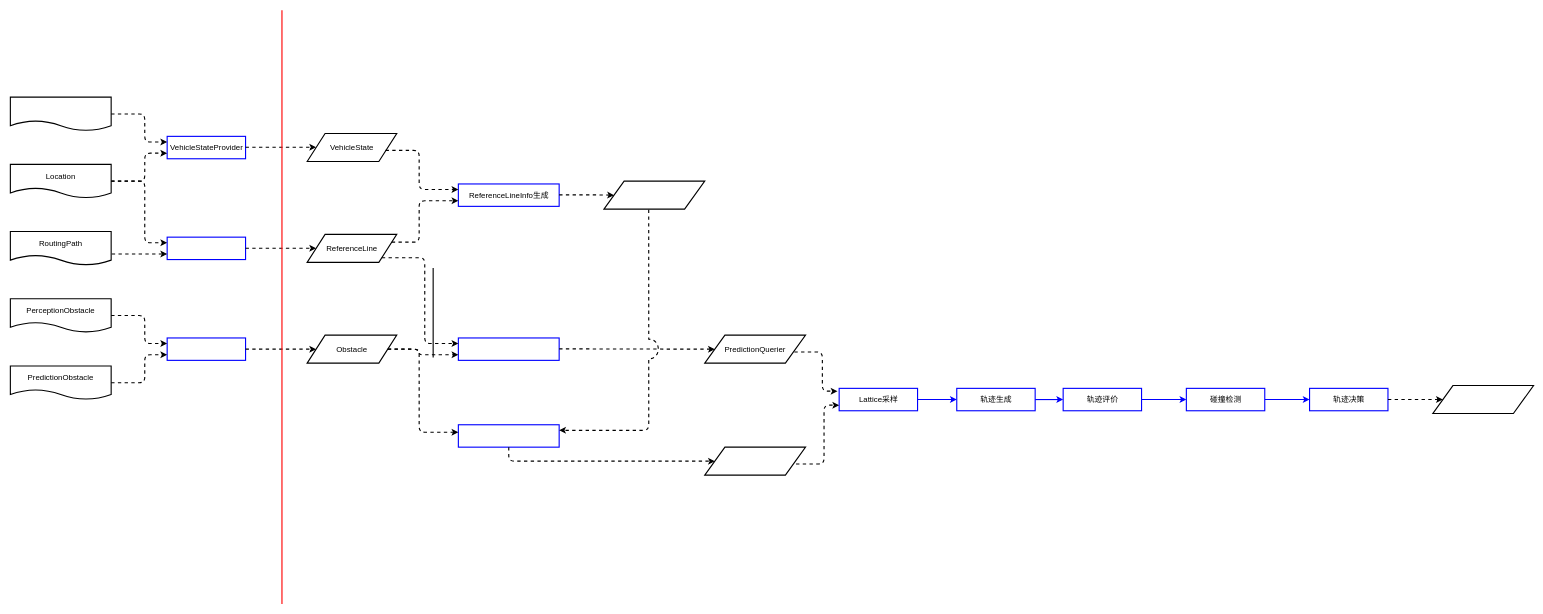
This 1543x614 diagram has some shape labels left out. Here are the shapes that lost their labels. From the top down, the centre of each, then its label:
the point at 60,113: Chassis
the point at 654,194: ReferenceLineInfo
the point at 206,248: ReferenceLine生成
the point at 206,349: 障碍物生成
the point at 508,349: PredictionQuerier生成
the point at 1483,399: 最优轨迹
the point at 508,435: PathTimeGraph生成
the point at 755,460: PathTimeGraph
